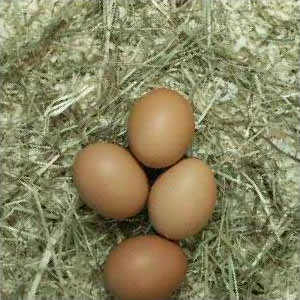egg: (73, 142, 148, 220), (148, 158, 217, 241), (104, 235, 189, 300), (128, 88, 194, 170)
